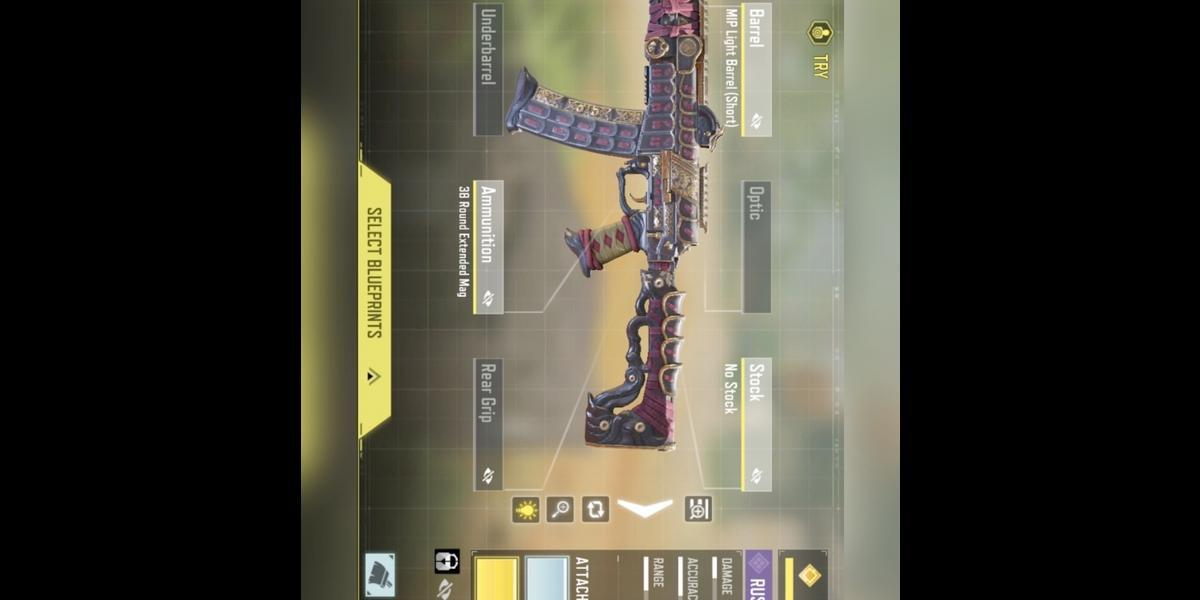gun: (502, 0, 726, 454)
